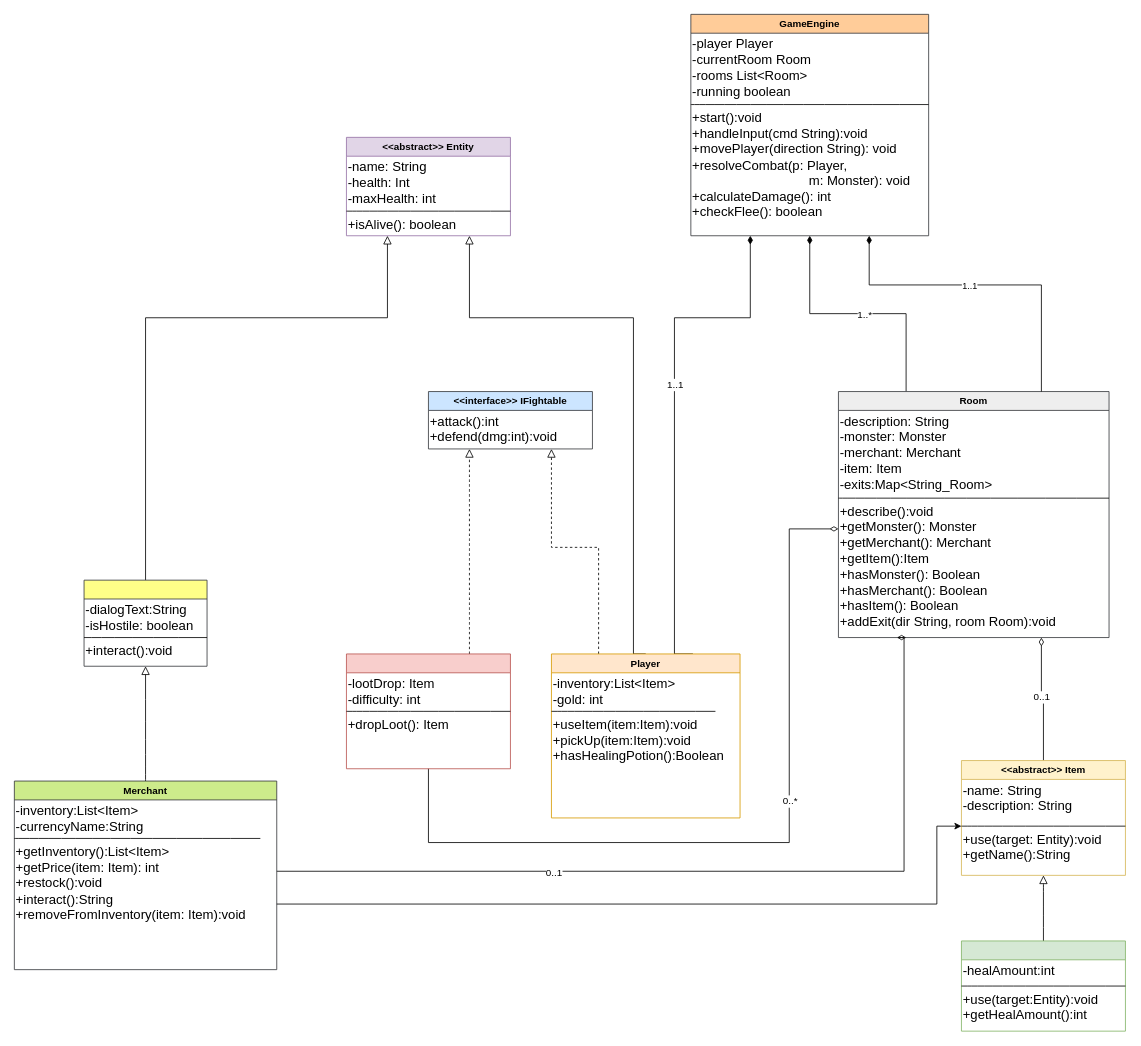
This 1141x1046 diagram has some shape labels left out. Here are the shapes that lost their labels. From the top down, the box of each, then its label:
(83, 579, 207, 666): <<abstract>> NPC
(346, 653, 510, 769): Monster
(961, 940, 1125, 1031): HealingPotion
